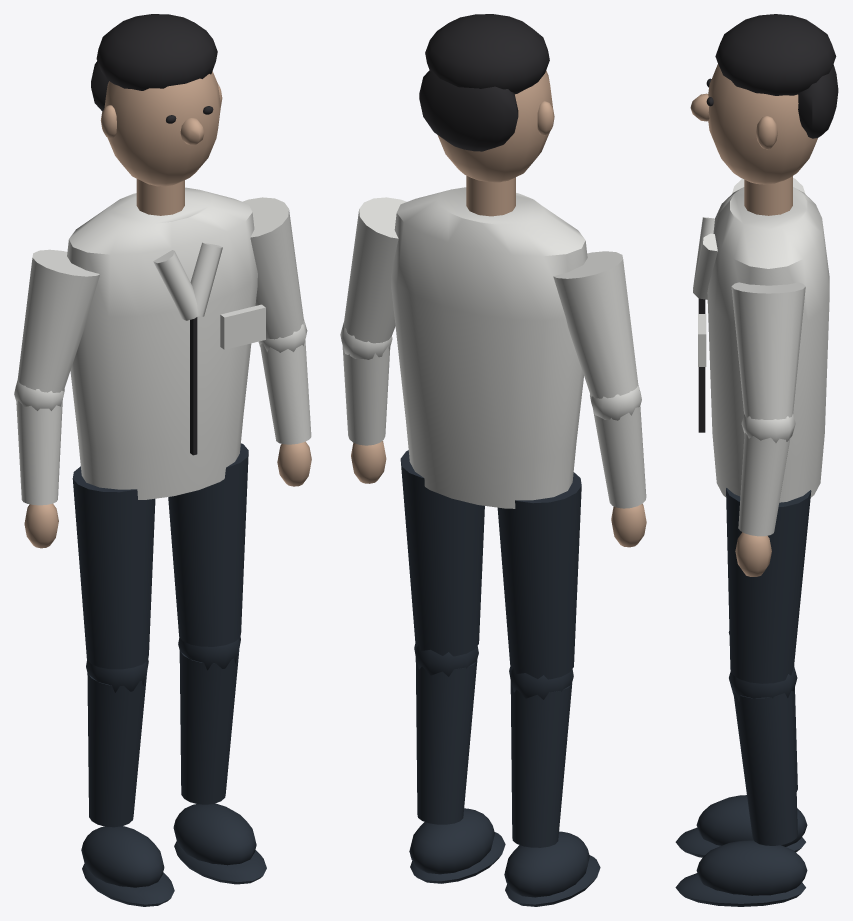
Rendered from street_person.glb.
3 renders of one model, left to right at view 1: azimuth 30°, elevation 25°; view 2: azimuth 150°, elevation 25°; view 3: azimuth 270°, elevation 25°, orthographic. The views are drawn at different scales.
Parts seen in each view (by area): view 1: Detail.street_person.Cloth, Detail.street_person.Leg.Left, Detail.street_person.Leg.Right, Detail.street_person.Arm.Left.Cloth, Detail.street_person.Skin, Detail.street_person.Arm.Right.Cloth, Detail.street_person.Hair, Detail.street_person.Arm.Left.Skin, Detail.street_person.Arm.Right.Skin; view 2: Detail.street_person.Cloth, Detail.street_person.Leg.Left, Detail.street_person.Leg.Right, Detail.street_person.Arm.Left.Cloth, Detail.street_person.Hair, Detail.street_person.Arm.Right.Cloth, Detail.street_person.Skin, Detail.street_person.Arm.Left.Skin, Detail.street_person.Arm.Right.Skin; view 3: Detail.street_person.Leg.Right, Detail.street_person.Cloth, Detail.street_person.Arm.Right.Cloth, Detail.street_person.Hair, Detail.street_person.Skin, Detail.street_person.Leg.Left, Detail.street_person.Arm.Right.Skin.
Boxes of the visible parts, box(x1,y1,x2,y2) form: Detail.street_person.Cloth: box(67, 187, 265, 499); Detail.street_person.Leg.Left: box(72, 466, 174, 906); Detail.street_person.Leg.Right: box(168, 443, 266, 884); Detail.street_person.Arm.Left.Cloth: box(14, 249, 99, 505); Detail.street_person.Skin: box(100, 71, 222, 215); Detail.street_person.Arm.Right.Cloth: box(242, 197, 311, 444); Detail.street_person.Hair: box(91, 14, 217, 455); Detail.street_person.Arm.Left.Skin: box(24, 503, 58, 548); Detail.street_person.Arm.Right.Skin: box(277, 441, 311, 486); Detail.street_person.Cloth: box(391, 187, 587, 508); Detail.street_person.Leg.Left: box(497, 472, 600, 906); Detail.street_person.Leg.Right: box(400, 450, 505, 883); Detail.street_person.Arm.Left.Cloth: box(553, 251, 646, 508); Detail.street_person.Hair: box(419, 14, 549, 151); Detail.street_person.Arm.Right.Cloth: box(340, 197, 406, 445); Detail.street_person.Skin: box(437, 70, 554, 216); Detail.street_person.Arm.Left.Skin: box(611, 503, 646, 547); Detail.street_person.Arm.Right.Skin: box(351, 441, 386, 483); Detail.street_person.Leg.Right: box(675, 488, 811, 906); Detail.street_person.Cloth: box(693, 187, 829, 502); Detail.street_person.Arm.Right.Cloth: box(731, 282, 805, 536); Detail.street_person.Hair: box(698, 14, 838, 432); Detail.street_person.Skin: box(690, 64, 817, 215); Detail.street_person.Leg.Left: box(675, 631, 807, 857); Detail.street_person.Arm.Right.Skin: box(735, 532, 771, 576).
Bounding box in the file's own units: 0.5995 × 1.7 × 0.294.
